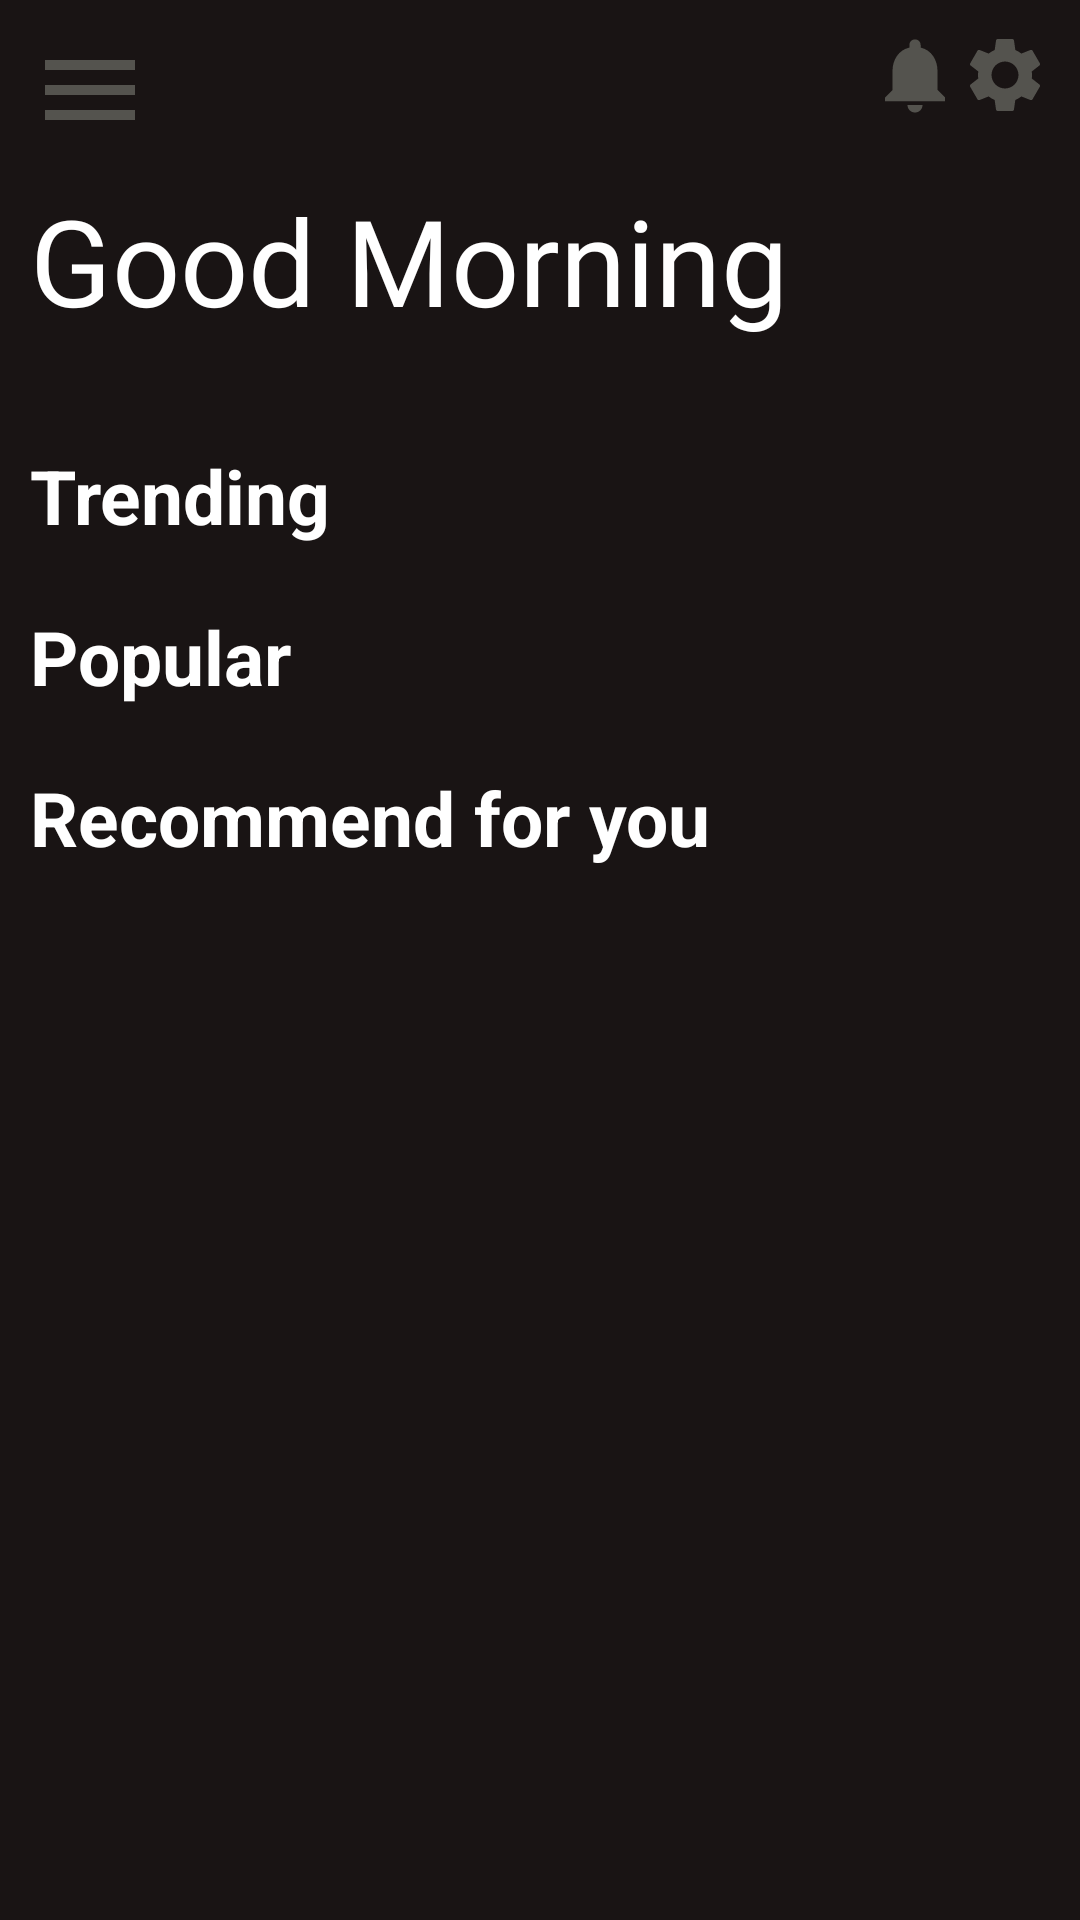

Where icons sit on this 1080px x 1920px app screen, as detection(x1, y1, x2, y2):
menu: detection(45, 60, 135, 120)
notifications: detection(885, 39, 945, 113)
settings: detection(970, 39, 1040, 111)
